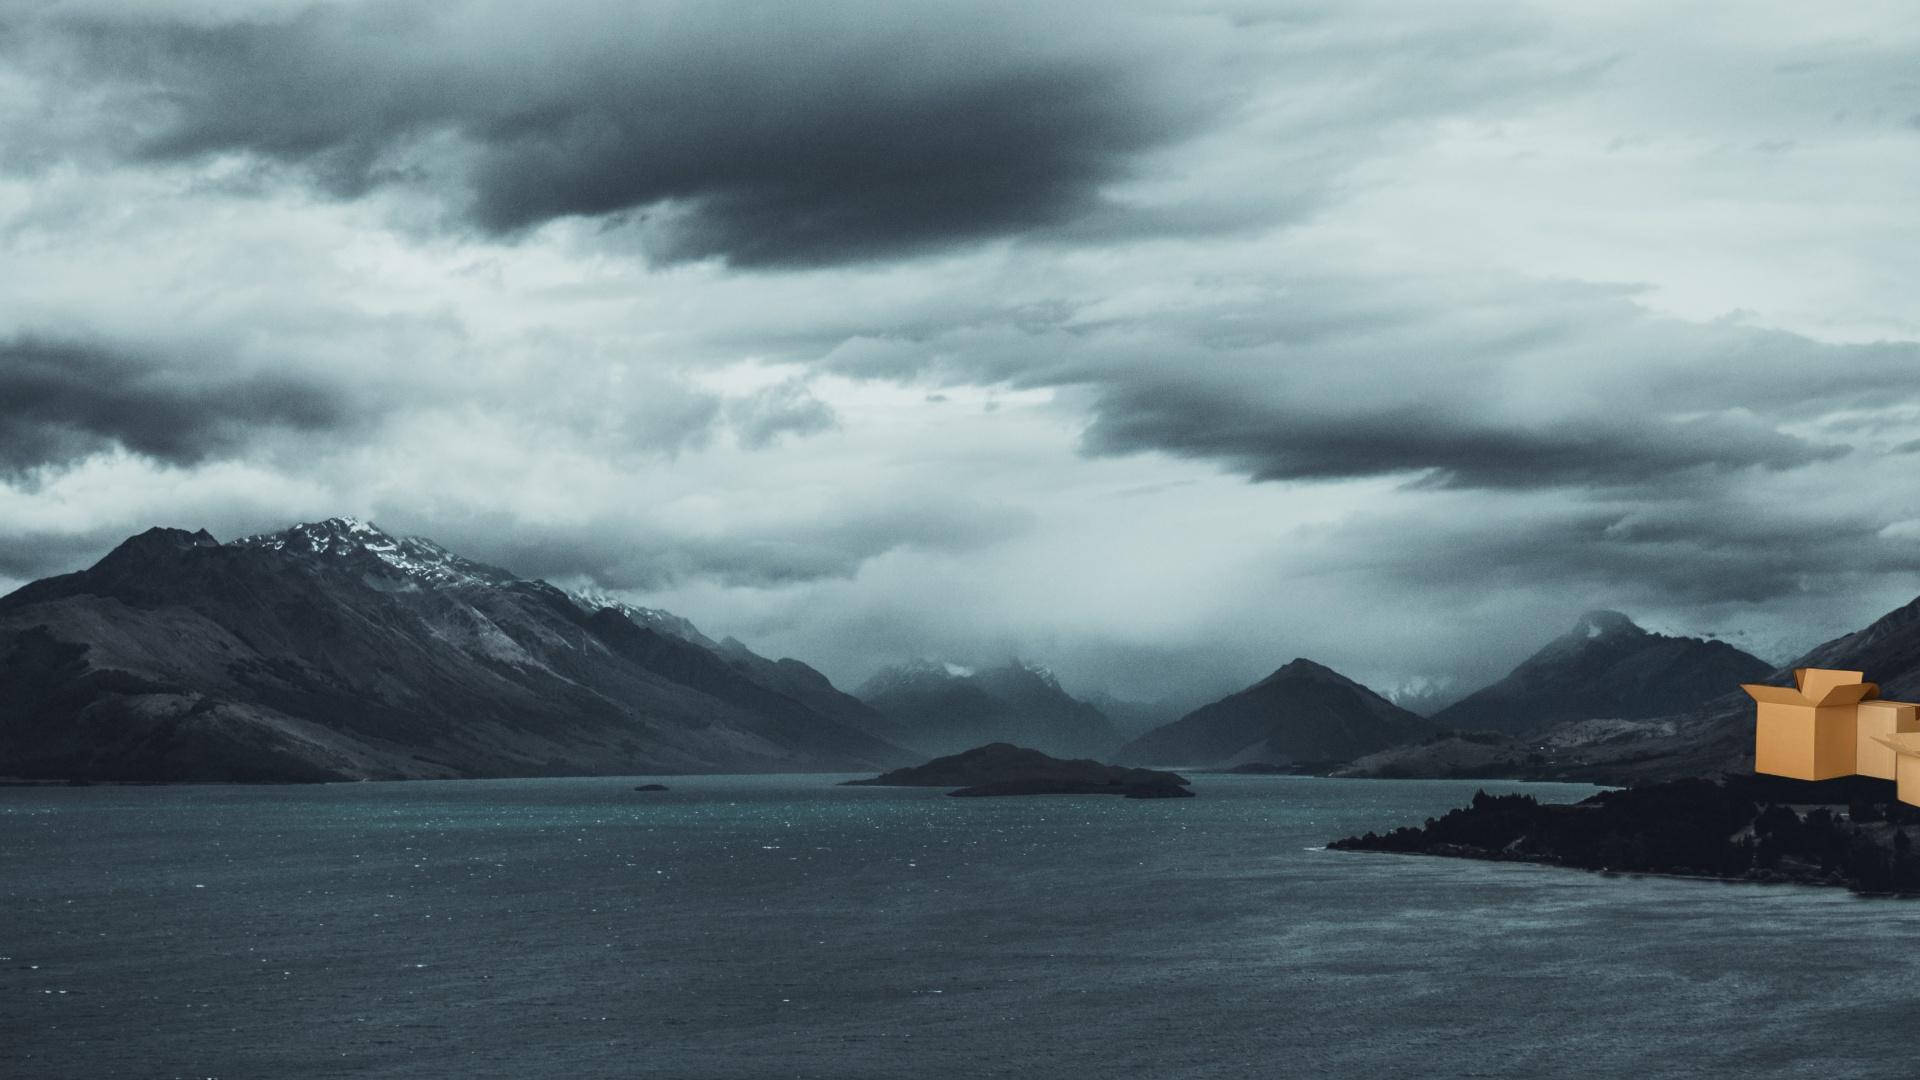trashbox-cardboard: (1735, 504, 1920, 815)
